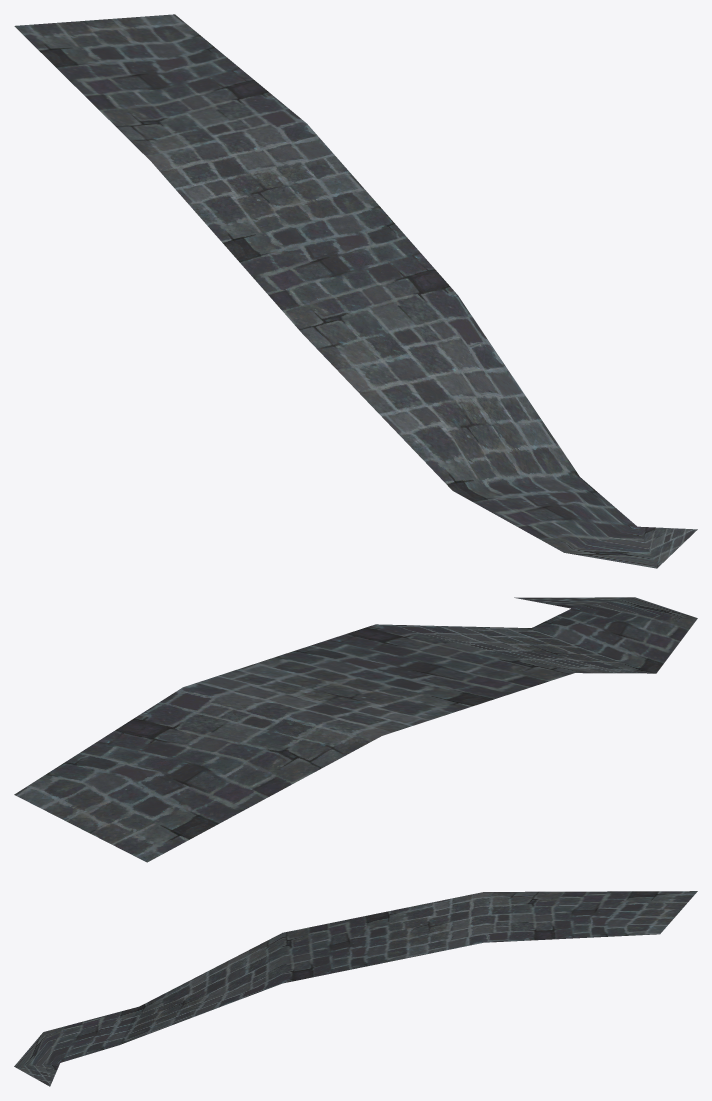
Rendered from blend_brick11.fbx.
3 views of the same model, one above another, from view 1: azimuth 30°, elevation 25°; view 2: azimuth 150°, elevation 25°; view 3: azimuth 270°, elevation 25° (orthographic). The views are drawn at different scales.
Visible parts, largest first — view 1: new_stone/brick_blend_shadow; view 2: new_stone/brick_blend_shadow; view 3: new_stone/brick_blend_shadow.
Boxes of the visible parts, box(x1,y1,x2,y2) form: new_stone/brick_blend_shadow: box(14, 14, 697, 568); new_stone/brick_blend_shadow: box(14, 597, 697, 862); new_stone/brick_blend_shadow: box(14, 891, 697, 1086).
Bounding box in the file's own units: 3.81 × 3.27 × 15.25.
